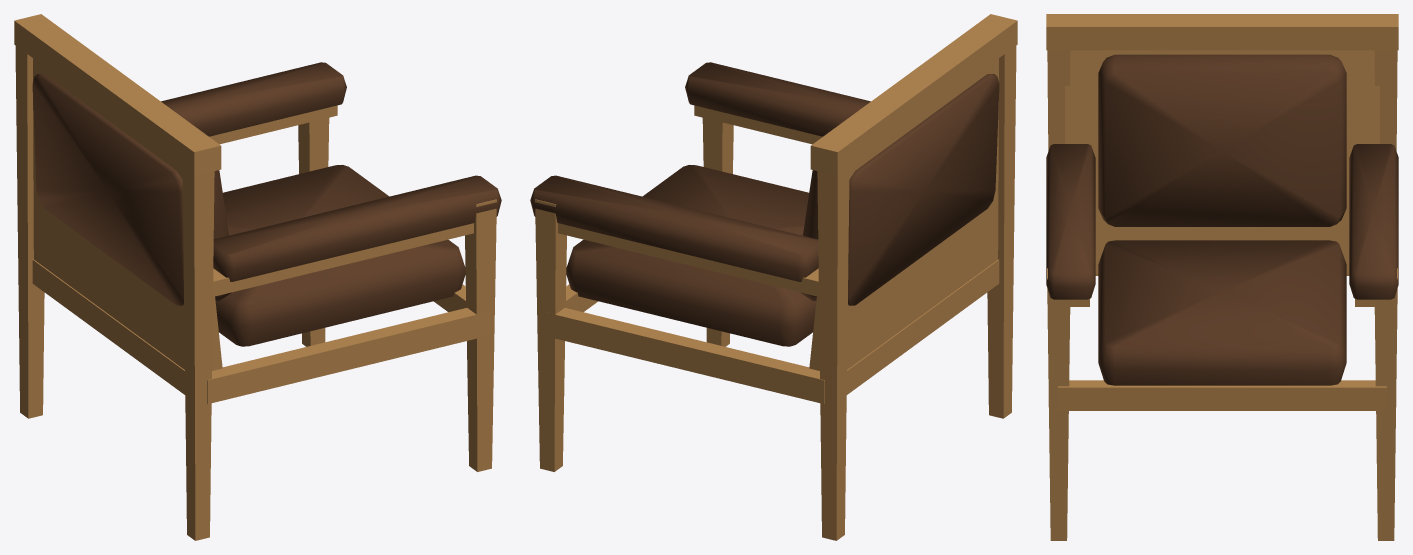
The model's file is parametric-armchair-crew.glb.
3 views of the same model, side by side, from view 1: azimuth 30°, elevation 25°; view 2: azimuth 150°, elevation 25°; view 3: azimuth 270°, elevation 25° (orthographic). The views are drawn at different scales.
Visible parts, largest first — view 1: parametric-armchair-crew; view 2: parametric-armchair-crew; view 3: parametric-armchair-crew.
Part boxes in pixels (left/top/right/bottom): parametric-armchair-crew: left=14, top=14, right=501, bottom=540; parametric-armchair-crew: left=530, top=14, right=1017, bottom=540; parametric-armchair-crew: left=1046, top=14, right=1398, bottom=540.
Size of the model in its own units: 0.75 by 0.9 by 0.75.
